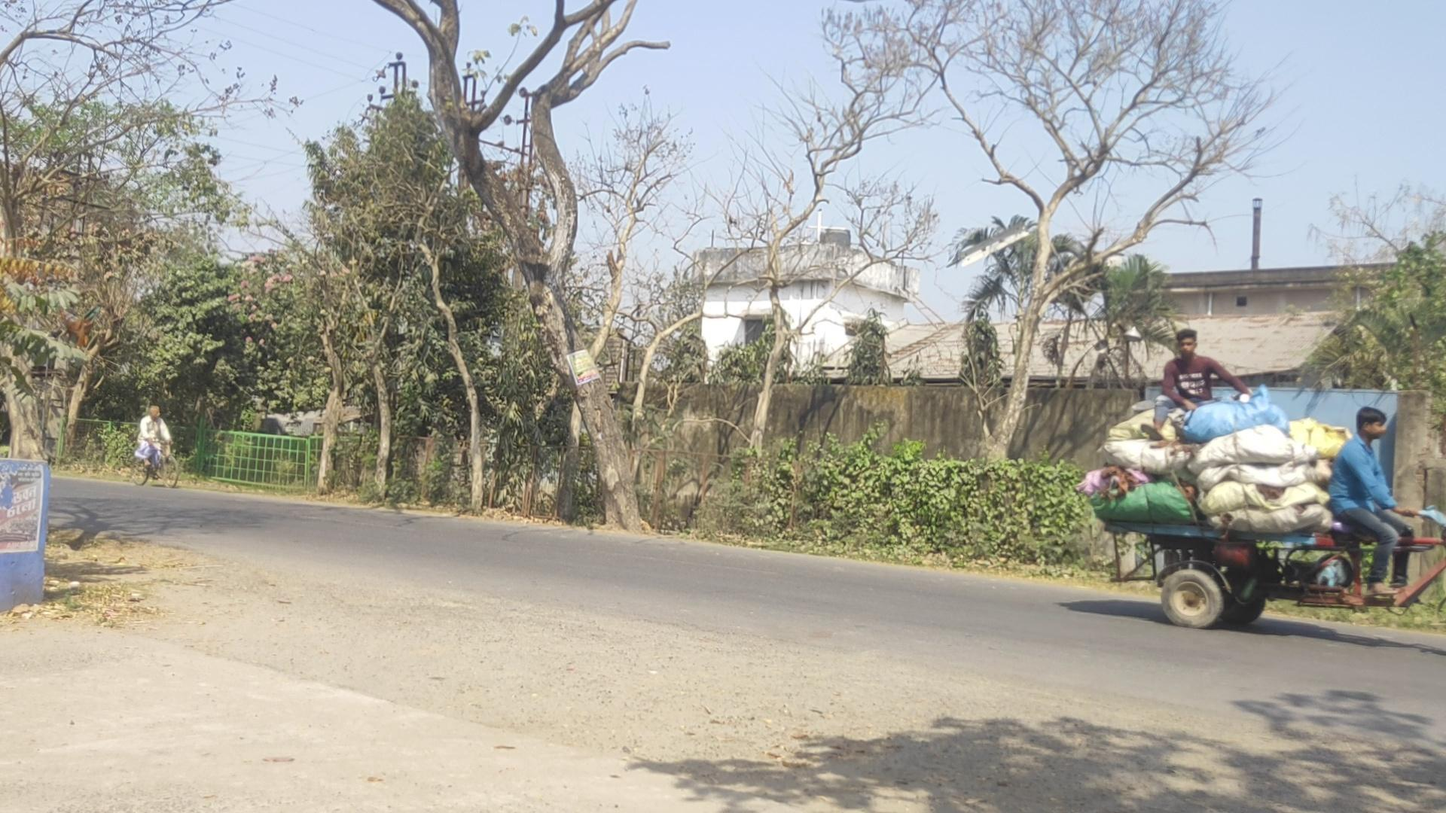bike: (130, 405, 178, 487)
